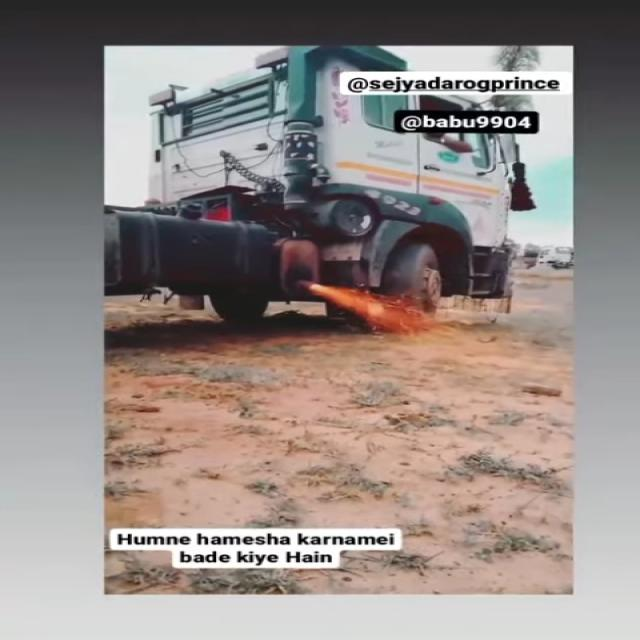fire: (311, 285, 417, 331)
